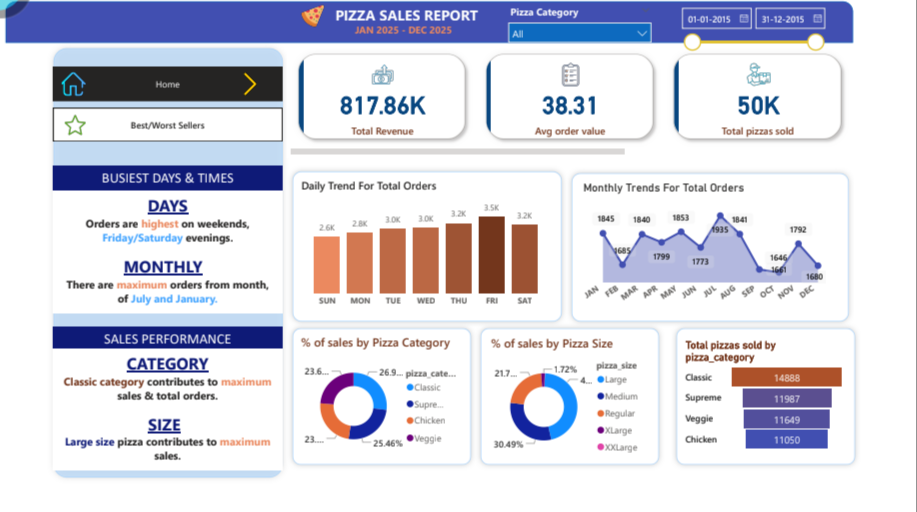

The page's visual inventory and layout, read from the dashboard file:
{"tool":"powerbi","page":{"name":"Home","canvas":[1280,720],"ordinal":0},"visuals":[{"type":"shape","box":[0,61,358.4,658.4],"z":0},{"type":"cardVisual","fields":{"Data":["pizza_sales.Total Revenue","pizza_sales.Avg order value","pizza_sales.Total pizzas sold","pizza_sales.Total Orders","pizza_sales.AvgPizzas Per Order"]},"box":[370,62.2,897.8,172.2],"z":1000},{"type":"shape","box":[0,0,1268.9,62.2],"z":2000},{"type":"textbox","box":[488.9,0,295.6,51.1],"z":3000},{"type":"textbox","box":[488.9,26.7,215.6,48.9],"z":4000},{"type":"image","box":[437.8,0,44.4,44.4],"z":5000},{"type":"shape","box":[387.8,248.9,417.8,240],"z":6000},{"type":"columnChart","title":"Daily Trend For Total Orders","fields":{"Category":["pizza_sales.Order Day"],"Y":["pizza_sales.Total Orders"]},"box":[404.4,267.8,384.4,202.2],"z":7000},{"type":"shape","box":[805.6,250,428.9,237.8],"z":8000},{"type":"areaChart","title":"Monthly Trends For Total Orders","fields":{"Y":["pizza_sales.Total Orders"],"Category":["pizza_sales.Order Month"]},"box":[825.6,270,373.3,200],"z":9000},{"type":"shape","box":[387.8,484.4,282.2,220],"z":10000},{"type":"shape","box":[966.7,484.4,282.2,220],"z":11000},{"type":"shape","box":[677.8,484.4,282.2,220],"z":12000},{"type":"donutChart","title":"% of sales by Pizza Category","fields":{"Category":["pizza_sales.pizza_category"],"Y":["pizza_sales.Total Revenue"]},"box":[404.4,500,247.8,191.1],"z":13000},{"type":"donutChart","title":"% of sales by Pizza Size","fields":{"Y":["pizza_sales.Total Revenue"],"Category":["pizza_sales.pizza_size"]},"box":[694.4,500,247.8,192.2],"z":14000},{"type":"funnel","fields":{"Category":["pizza_sales.pizza_category"],"Y":["pizza_sales.Total pizzas sold"]},"box":[982.2,505.6,250,173.3],"z":15000},{"type":"textbox","box":[7.8,245.6,343.3,37.8],"z":16000},{"type":"textbox","box":[7.8,284.4,343.3,182.2],"z":17000},{"type":"textbox","box":[7.8,486.7,343.3,36.7],"z":18000},{"type":"textbox","box":[8.9,523.3,343.3,182.2],"z":19000},{"type":"slicer","fields":{"Values":["pizza_sales.pizza_category"]},"box":[743.2,0,234.1,61.4],"z":20000},{"type":"slicer","fields":{"Values":["pizza_sales.order_date"]},"box":[1000,0,234.1,75],"z":21000},{"type":"pageNavigator","box":[6.7,98.9,344.4,48.9],"z":22000},{"type":"pageNavigator","box":[6.7,155.6,343.3,50],"z":23000},{"type":"image","box":[307.8,96.7,43.3,50],"z":23001},{"type":"image","box":[15.6,102.2,44.4,44.4],"z":23002},{"type":"image","box":[20,160,40,41.1],"z":23003}]}

Visuals, with their boxes in screenshot pixels (x1, y1, x2, y2), scaled from the page's 1280x720 canvas onto the 917x512 screenshot:
shape: [left=0, top=43, right=257, bottom=511]
cardVisual - pizza_sales.Total Revenue x pizza_sales.Avg order value: [left=265, top=44, right=908, bottom=167]
shape: [left=0, top=0, right=909, bottom=44]
textbox: [left=350, top=0, right=562, bottom=36]
textbox: [left=350, top=19, right=505, bottom=54]
image: [left=314, top=0, right=345, bottom=32]
shape: [left=278, top=177, right=577, bottom=348]
"Daily Trend For Total Orders" columnChart: [left=290, top=190, right=565, bottom=334]
shape: [left=577, top=178, right=884, bottom=347]
"Monthly Trends For Total Orders" areaChart: [left=591, top=192, right=859, bottom=334]
shape: [left=278, top=344, right=480, bottom=501]
shape: [left=693, top=344, right=895, bottom=501]
shape: [left=486, top=344, right=688, bottom=501]
"% of sales by Pizza Category" donutChart: [left=290, top=356, right=467, bottom=491]
"% of sales by Pizza Size" donutChart: [left=497, top=356, right=675, bottom=492]
funnel - pizza_sales.pizza_category x pizza_sales.Total pizzas sold: [left=704, top=360, right=883, bottom=483]
textbox: [left=6, top=175, right=252, bottom=202]
textbox: [left=6, top=202, right=252, bottom=332]
textbox: [left=6, top=346, right=252, bottom=372]
textbox: [left=6, top=372, right=252, bottom=502]
slicer - pizza_sales.pizza_category: [left=532, top=0, right=700, bottom=44]
slicer - pizza_sales.order_date: [left=716, top=0, right=884, bottom=53]
pageNavigator: [left=5, top=70, right=252, bottom=105]
pageNavigator: [left=5, top=111, right=251, bottom=146]
image: [left=221, top=69, right=252, bottom=104]
image: [left=11, top=73, right=43, bottom=104]
image: [left=14, top=114, right=43, bottom=143]
